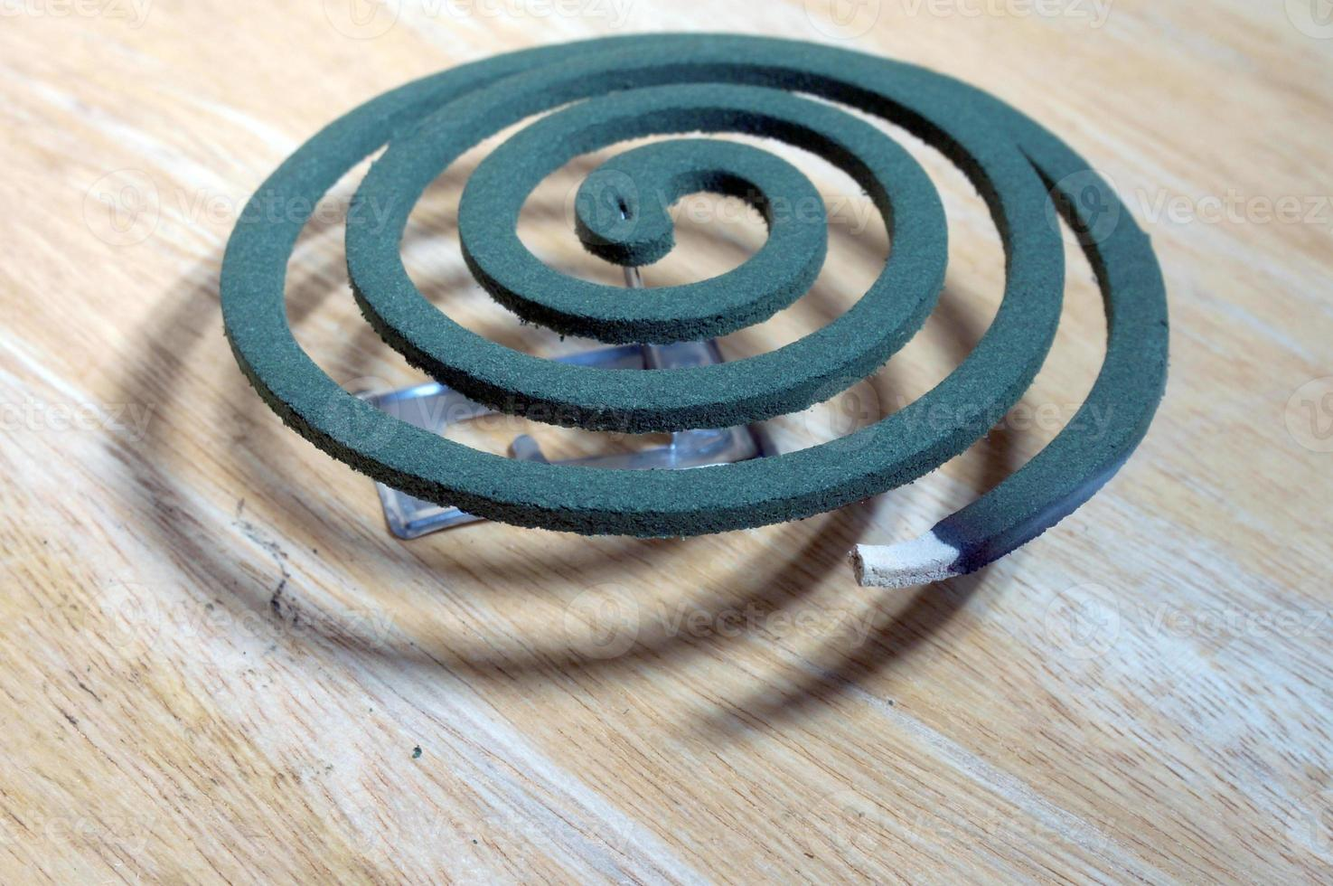Open-Flame-Hazard: (183, 17, 1199, 619)
